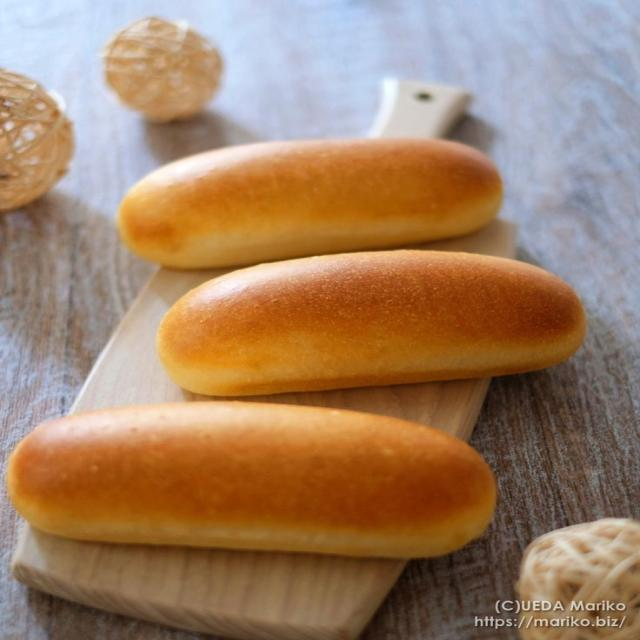bread: (8, 402, 495, 557), (158, 250, 585, 395), (118, 139, 502, 268)
